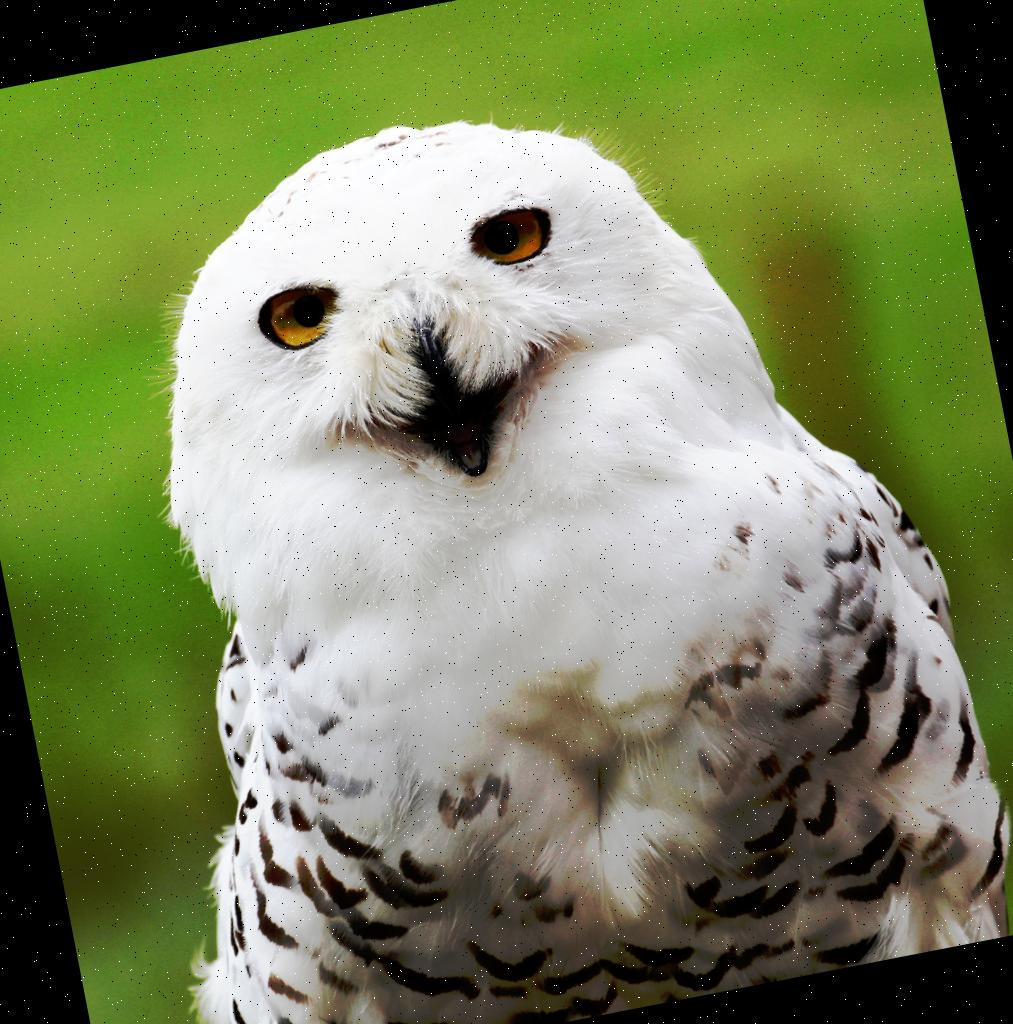Owl: (26, 31, 1013, 1024)
